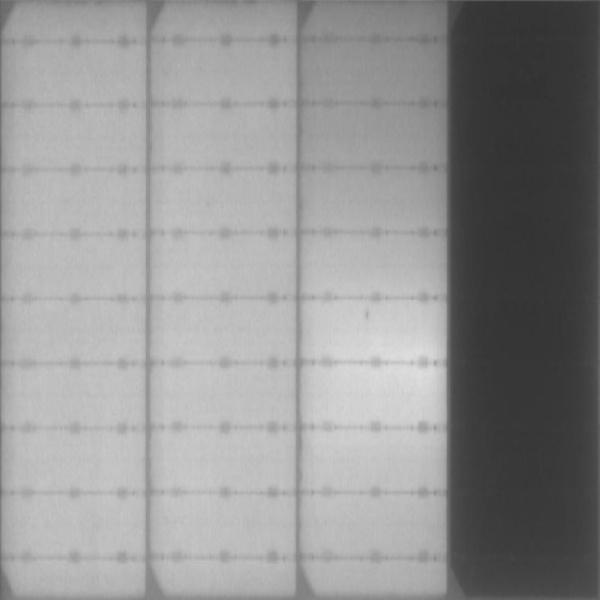no_electricity: (449, 1, 600, 595)
